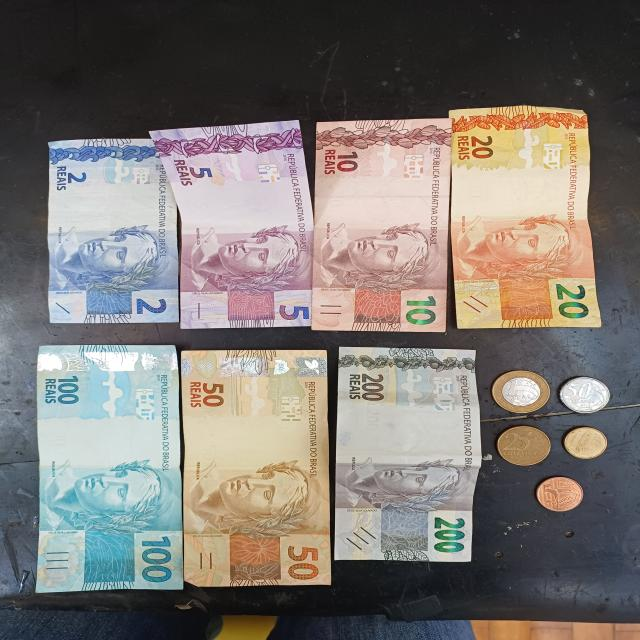1 real: (492, 368, 552, 414)
25 cents: (496, 425, 551, 466)
50 cents: (557, 377, 611, 413)
